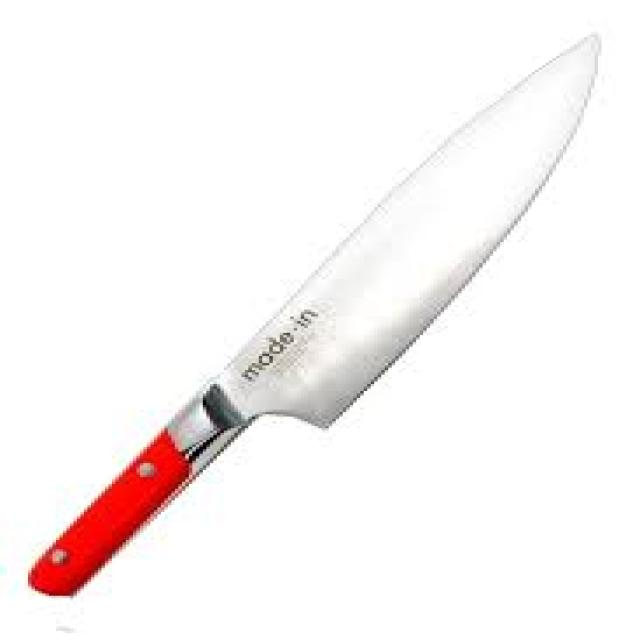knives: (21, 28, 609, 600)
